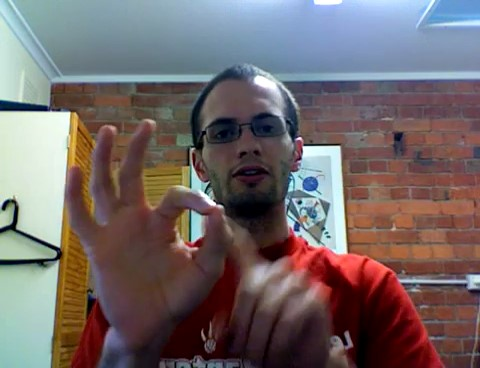Q: (58, 117, 335, 363)
